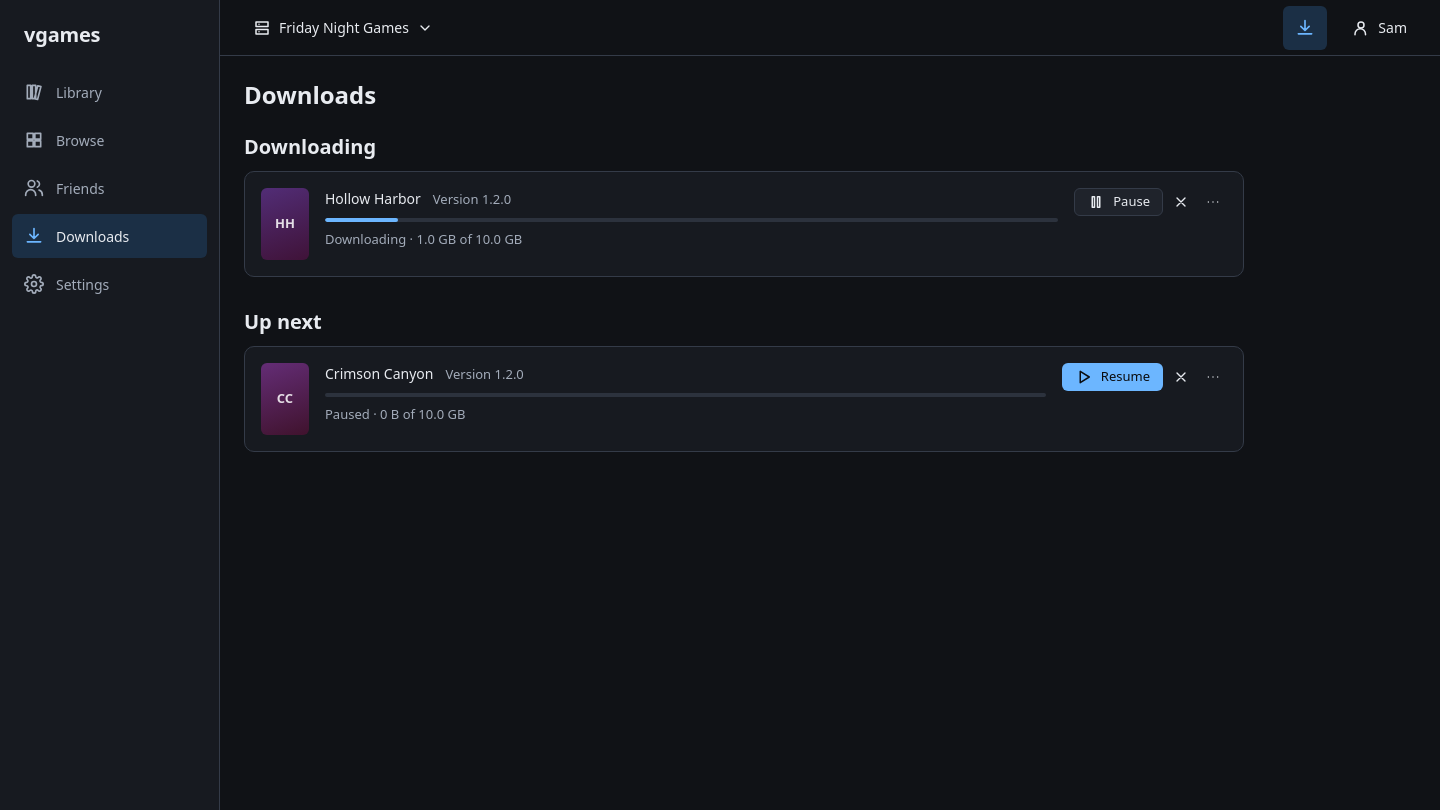
Test: downloads › paused › by the player: Resume queues it again
expect the list item "Crimson Canyon" shows "Paused · 0 B of 10.0 GB": met, box [325, 404, 466, 422]
Click the button with aria-label "Resume Crimson Canyon": point(1112, 377) [1062, 363, 1163, 391]
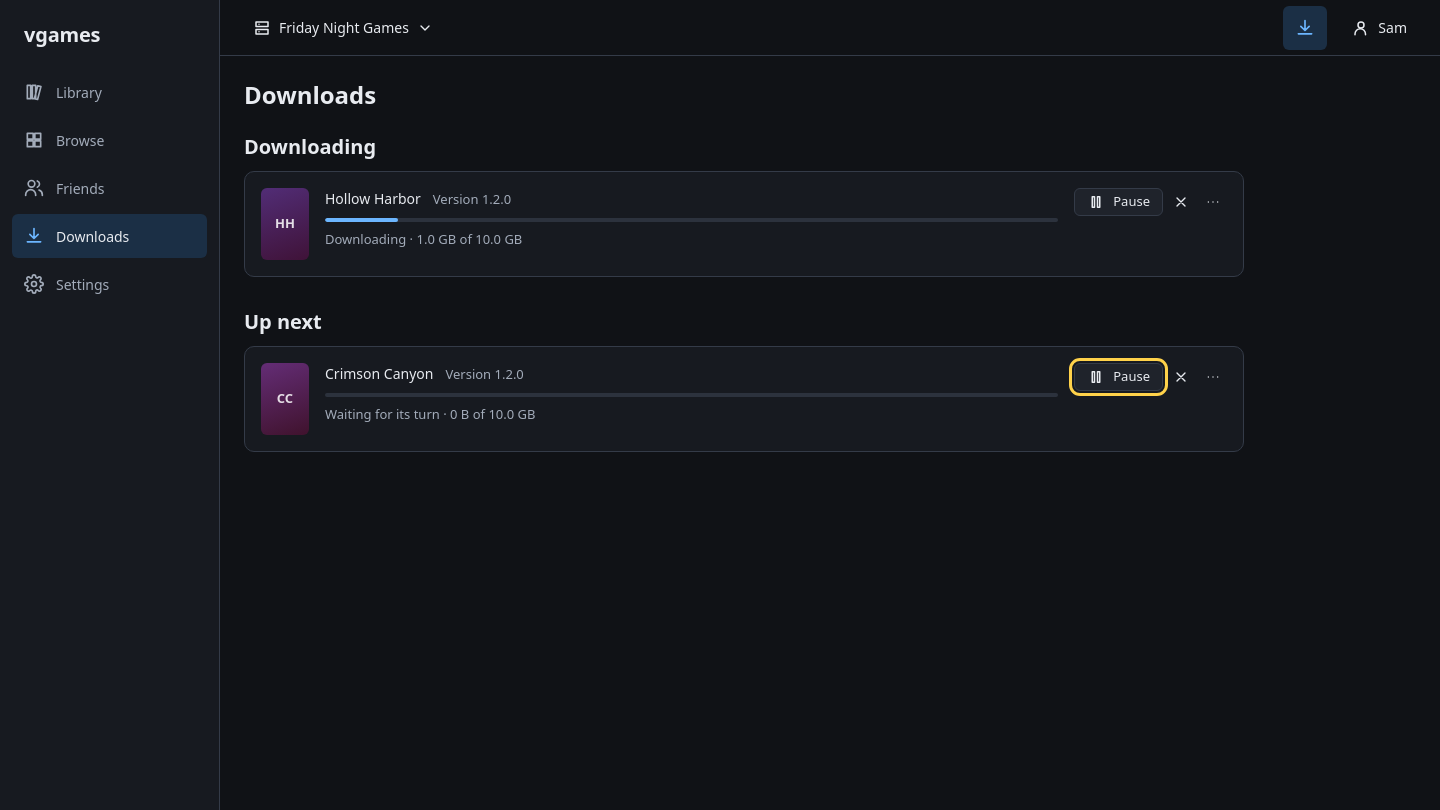
expect the list item "Crimson Canyon" shows "Waiting for its turn": met, box [325, 404, 536, 422]
